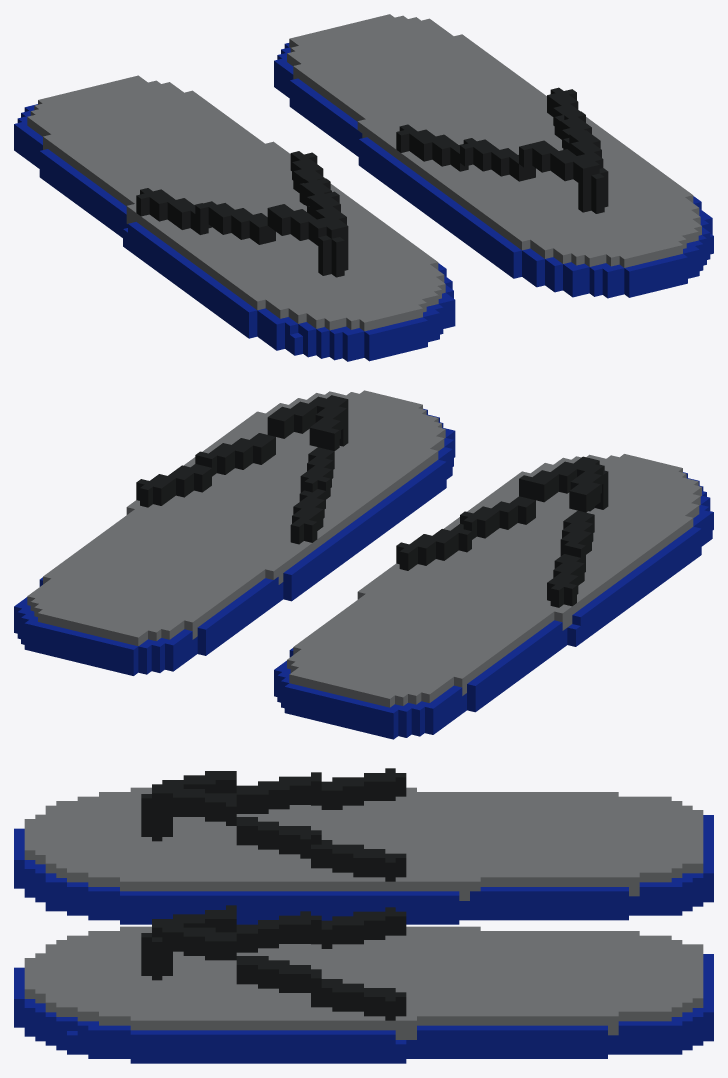
Rendered from flip_flops.glb.
The picture shows the model from 3 angles, top to bottom: view 1: azimuth 30°, elevation 25°; view 2: azimuth 150°, elevation 25°; view 3: azimuth 270°, elevation 25°; orthographic projection. The views are drawn at different scales.
Parts seen in each view (by area): view 1: flip_flops:compound; view 2: flip_flops:compound; view 3: flip_flops:compound.
Part boxes in pixels (bbox=[...]): flip_flops:compound: bbox=[14, 14, 713, 361]; flip_flops:compound: bbox=[14, 390, 713, 739]; flip_flops:compound: bbox=[14, 768, 713, 1063].
Bounding box in the file's own units: 0.216 × 0.036 × 0.264.
